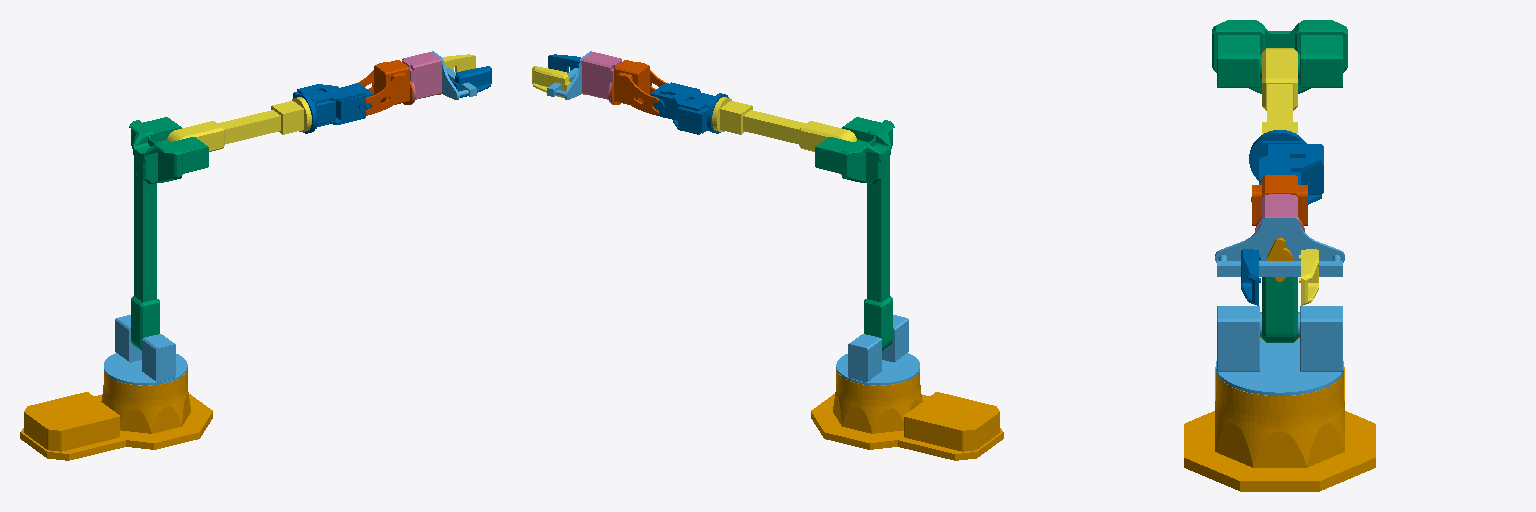
URDF robot description (wx250s):
<?xml version="1.0" encoding="UTF-8"?>
<!-- =================================================================================== -->
<!-- |    This document was autogenerated by xacro from [local-path]\Anaconda3\envs\urdf_analyzer\Lib\site-packages\rtbdata\xacro\interbotix_descriptions\urdf\wx250s.urdf.xacro | -->
<!-- |    EDITING THIS FILE BY HAND IS NOT RECOMMENDED                                 | -->
<!-- =================================================================================== -->
<robot name="wx250s">
  <link name="base_link">
    <visual>
      <origin rpy="0 0 1.5707963267948966" xyz="0 0 0"/>
      <geometry>
        <mesh filename="meshes_wx250s/WXSA-250-M-1-Base.obj" scale="0.001 0.001 0.001"/>
      </geometry>
    </visual>
    <collision>
      <origin rpy="0 0 1.5707963267948966" xyz="0 0 0"/>
      <geometry>
        <mesh filename="meshes_wx250s/WXSA-250-M-1-Base.stl" scale="0.001 0.001 0.001"/>
      </geometry>
    </collision>
    <inertial>
      <origin rpy="0 0 1.5707963267948966" xyz="-0.0380446000 0.0006138920 0.0193354000"/>
      <mass value="0.538736"/>
      <inertia ixx="0.0021150000" ixy="-0.0000163500" ixz="0.0000006998" iyy="0.0006921000" iyz="0.0000464200" izz="0.0025240000"/>
    </inertial>
  </link>
  <joint name="waist" type="revolute">
    <axis xyz="0 0 1"/>
    <limit effort="10" lower="-3.141592653589793" upper="3.141592653589793" velocity="3.141592653589793"/>
    <origin rpy="0 0 0" xyz="0 0 0.072"/>
    <parent link="base_link"/>
    <child link="shoulder_link"/>
  </joint>
  <!-- <transmission name="trans_waist">
    <type>transmission_interface/SimpleTransmission</type>
    <joint name="waist">
      <hardwareInterface>hardware_interface/EffortJointInterface</hardwareInterface>
    </joint>
    <actuator name="waist_motor">
      <mechanicalReduction>1</mechanicalReduction>
    </actuator>
  </transmission> -->
  <link name="shoulder_link">
    <visual>
      <origin rpy="0 0 1.5707963267948966" xyz="0 0 -0.003"/>
      <geometry>
        <mesh filename="meshes_wx250s/WXSA-250-M-2-Shoulder.obj" scale="0.001 0.001 0.001"/>
      </geometry>
    </visual>
    <collision>
      <origin rpy="0 0 1.5707963267948966" xyz="0 0 -0.003"/>
      <geometry>
        <mesh filename="meshes_wx250s/WXSA-250-M-2-Shoulder.stl" scale="0.001 0.001 0.001"/>
      </geometry>
    </collision>
    <inertial>
      <origin rpy="0 0 1.5707963267948966" xyz="0.0000223482 0.0000414609 0.0066287000"/>
      <mass value="0.480879"/>
      <inertia ixx="0.0003790000" ixy="0.0000000022" ixz="-0.0000003561" iyy="0.0005557000" iyz="0.0000012245" izz="0.0005889000"/>
    </inertial>
  </link>
  <joint name="shoulder" type="revolute">
    <axis xyz="0 1 0"/>
    <limit effort="20" lower="-1.8849555921538759" upper="1.9896753472735358" velocity="3.141592653589793"/>
    <origin rpy="0 0 0" xyz="0 0 0.03865"/>
    <parent link="shoulder_link"/>
    <child link="upper_arm_link"/>
  </joint>
  <!-- <transmission name="trans_shoulder">
    <type>transmission_interface/SimpleTransmission</type>
    <joint name="shoulder">
      <hardwareInterface>hardware_interface/EffortJointInterface</hardwareInterface>
    </joint>
    <actuator name="shoulder_motor">
      <mechanicalReduction>1</mechanicalReduction>
    </actuator>
  </transmission> -->
  <link name="upper_arm_link">
    <visual>
      <origin rpy="0 0 1.5707963267948966" xyz="0 0 0"/>
      <geometry>
        <mesh filename="meshes_wx250s/WXSA-250-M-3-UA.obj" scale="0.001 0.001 0.001"/>
      </geometry>
    </visual>
    <collision>
      <origin rpy="0 0 1.5707963267948966" xyz="0 0 0"/>
      <geometry>
        <mesh filename="meshes_wx250s/WXSA-250-M-3-UA.stl" scale="0.001 0.001 0.001"/>
      </geometry>
    </collision>
    <inertial>
      <origin rpy="0 0 1.5707963267948966" xyz="0.0171605000 0.0000002725 0.1913230000"/>
      <mass value="0.430811"/>
      <inertia ixx="0.0034630000" ixy="-0.0000000001" ixz="-0.0000000002" iyy="0.0035870000" iyz="0.0004272000" izz="0.0004566000"/>
    </inertial>
  </link>
  <joint name="elbow" type="revolute">
    <axis xyz="0 1 0"/>
    <limit effort="15" lower="-2.1467549799530254" upper="1.6057029118347832" velocity="3.141592653589793"/>
    <origin rpy="0 0 0" xyz="0.04975 0 0.25"/>
    <parent link="upper_arm_link"/>
    <child link="upper_forearm_link"/>
  </joint>
  <!-- <transmission name="trans_elbow">
    <type>transmission_interface/SimpleTransmission</type>
    <joint name="elbow">
      <hardwareInterface>hardware_interface/EffortJointInterface</hardwareInterface>
    </joint>
    <actuator name="elbow_motor">
      <mechanicalReduction>1</mechanicalReduction>
    </actuator>
  </transmission> -->
  <link name="upper_forearm_link">
    <visual>
      <origin rpy="0 0 0" xyz="0 0 0"/>
      <geometry>
        <mesh filename="meshes_wx250s/WXSA-250-M-4-UF.obj" scale="0.001 0.001 0.001"/>
      </geometry>
    </visual>
    <collision>
      <origin rpy="0 0 0" xyz="0 0 0"/>
      <geometry>
        <mesh filename="meshes_wx250s/WXSA-250-M-4-UF.stl" scale="0.001 0.001 0.001"/>
      </geometry>
    </collision>
    <inertial>
      <origin rpy="0 0 0" xyz="0.1079630000 0.0001158760 0"/>
      <mass value="0.234589"/>
      <inertia ixx="0.0000397100" ixy="0.0000023528" ixz="0" iyy="0.0008878000" iyz="0" izz="0.0008880000"/>
    </inertial>
  </link>
  <joint name="forearm_roll" type="revolute">
    <axis xyz="1 0 0"/>
    <limit effort="2" lower="-3.141582653589793" upper="3.141582653589793" velocity="3.141592653589793"/>
    <origin rpy="0 0 0" xyz="0.175 0 0"/>
    <parent link="upper_forearm_link"/>
    <child link="lower_forearm_link"/>
  </joint>
  <!-- <transmission name="trans_forearm_roll">
    <type>transmission_interface/SimpleTransmission</type>
    <joint name="forearm_roll">
      <hardwareInterface>hardware_interface/EffortJointInterface</hardwareInterface>
    </joint>
    <actuator name="forearm_roll_motor">
      <mechanicalReduction>1</mechanicalReduction>
    </actuator>
  </transmission> -->
  <link name="lower_forearm_link">
    <visual>
      <origin rpy="3.141592653589793 0 0" xyz="0 0 0"/>
      <geometry>
        <mesh filename="meshes_wx250s/WXSA-250-M-5-LF.obj" scale="0.001 0.001 0.001"/>
      </geometry>
    </visual>
    <collision>
      <origin rpy="3.141592653589793 0 0" xyz="0 0 0"/>
      <geometry>
        <mesh filename="meshes_wx250s/WXSA-250-M-5-LF.stl" scale="0.001 0.001 0.001"/>
      </geometry>
    </collision>
    <inertial>
      <origin rpy="3.141592653589793 0 0" xyz="0.0374395000 0.0052225200 0"/>
      <mass value="0.220991"/>
      <inertia ixx="0.0000636900" ixy="-0.0000229200" ixz="0" iyy="0.0001677000" iyz="0" izz="0.0001834000"/>
    </inertial>
  </link>
  <joint name="wrist_angle" type="revolute">
    <axis xyz="0 1 0"/>
    <limit effort="5" lower="-1.7453292519943295" upper="2.1467549799530254" velocity="3.141592653589793"/>
    <origin rpy="0 0 0" xyz="0.075 0 0"/>
    <parent link="lower_forearm_link"/>
    <child link="wrist_link"/>
  </joint>
  <!-- <transmission name="trans_wrist_angle">
    <type>transmission_interface/SimpleTransmission</type>
    <joint name="wrist_angle">
      <hardwareInterface>hardware_interface/EffortJointInterface</hardwareInterface>
    </joint>
    <actuator name="wrist_angle_motor">
      <mechanicalReduction>1</mechanicalReduction>
    </actuator>
  </transmission> -->
  <link name="wrist_link">
    <visual>
      <origin rpy="0 0 1.5707963267948966" xyz="0 0 0"/>
      <geometry>
        <mesh filename="meshes_wx250s/WXSA-250-M-6-Wrist.obj" scale="0.001 0.001 0.001"/>
      </geometry>
    </visual>
    <collision>
      <origin rpy="0 0 1.5707963267948966" xyz="0 0 0"/>
      <geometry>
        <mesh filename="meshes_wx250s/WXSA-250-M-6-Wrist.stl" scale="0.001 0.001 0.001"/>
      </geometry>
    </collision>
    <inertial>
      <origin rpy="0 0 1.5707963267948966" xyz="0.0423600000 -0.0000106630 0.0105770000"/>
      <mass value="0.084957"/>
      <inertia ixx="0.0000308200" ixy="0.0000000191" ixz="0.0000000023" iyy="0.0000282200" iyz="0.0000025481" izz="0.0000315200"/>
    </inertial>
  </link>
  <joint name="wrist_rotate" type="revolute">
    <axis xyz="1 0 0"/>
    <limit effort="1" lower="-3.141582653589793" upper="3.141582653589793" velocity="3.141592653589793"/>
    <origin rpy="0 0 0" xyz="0.065 0 0"/>
    <parent link="wrist_link"/>
    <child link="gripper_link"/>
  </joint>
  <!-- <transmission name="trans_wrist_rotate">
    <type>transmission_interface/SimpleTransmission</type>
    <joint name="wrist_rotate">
      <hardwareInterface>hardware_interface/EffortJointInterface</hardwareInterface>
    </joint>
    <actuator name="wrist_rotate_motor">
      <mechanicalReduction>1</mechanicalReduction>
    </actuator>
  </transmission> -->
  <link name="gripper_link">
    <visual>
      <origin rpy="0 0 1.5707963267948966" xyz="-0.02 0 0"/>
      <geometry>
        <mesh filename="meshes_wx250s/WXSA-250-M-7-Gripper.obj" scale="0.001 0.001 0.001"/>
      </geometry>
    </visual>
    <collision>
      <origin rpy="0 0 1.5707963267948966" xyz="-0.02 0 0"/>
      <geometry>
        <mesh filename="meshes_wx250s/WXSA-250-M-7-Gripper.stl" scale="0.001 0.001 0.001"/>
      </geometry>
    </collision>
    <inertial>
      <origin rpy="0 0 1.5707963267948966" xyz="0.0216310000 0.0000002516 0.0114100000"/>
      <mass value="0.072885"/>
      <inertia ixx="0.0000253700" ixy="0.0000000000" ixz="0.0000000000" iyy="0.0000183600" iyz="0.0000004340" izz="0.0000167400"/>
    </inertial>
  </link>
  <joint name="ee_arm" type="fixed">
    <axis xyz="1 0 0"/>
    <origin rpy="0 0 0" xyz="0.043 0 0"/>
    <parent link="gripper_link"/>
    <child link="ee_arm_link"/>
  </joint>
  <link name="ee_arm_link">
    <inertial>
      <mass value="0.001"/>
      <inertia ixx="0.001" ixy="0" ixz="0" iyy="0.001" iyz="0" izz="0.001"/>
    </inertial>
  </link>
  <joint name="gripper" type="fixed">
    <axis xyz="1 0 0"/>
    <!-- <limit effort="1" velocity="3.141592653589793"/> -->
    <origin rpy="0 0 0" xyz="0.0055 0 0"/>
    <parent link="ee_arm_link"/>
    <child link="gripper_prop_link"/>
  </joint>
  <link name="gripper_prop_link">
    <visual>
      <origin rpy="0 0 1.5707963267948966" xyz="-0.0685 0 0"/>
      <geometry>
        <mesh filename="meshes_wx250s/WXSA-250-M-8-Gripper-Prop.obj" scale="0.001 0.001 0.001"/>
      </geometry>
    </visual>
    <!-- stao: No need to model this collision, it is inside gripper_link -->
    <!-- <collision>
      <origin rpy="0 0 1.5707963267948966" xyz="-0.0685 0 0"/>
      <geometry>
        <mesh filename="meshes_wx250s/WXSA-250-M-8-Gripper-Prop.stl" scale="0.001 0.001 0.001"/>
      </geometry>
    </collision> -->
    <inertial>
      <origin rpy="0 0 1.5707963267948966" xyz="0.0008460000 -0.0000016817 0.0000420000"/>
      <mass value="0.00434"/>
      <inertia ixx="0.0000005923" ixy="0.0000000000" ixz="0.0000003195" iyy="0.0000011156" iyz="-0.0000000004" izz="0.0000005743"/>
    </inertial>
  </link>
  <!-- If the default gripper bar is being used, then also add the gripper bar -->
  <joint name="gripper_bar" type="fixed">
    <axis xyz="1 0 0"/>
    <origin rpy="0 0 0" xyz="0 0 0"/>
    <parent link="ee_arm_link"/>
    <child link="gripper_bar_link"/>
  </joint>
  <link name="gripper_bar_link">
    <visual>
      <origin rpy="0 0 1.5707963267948966" xyz="-0.063 0 0"/>
      <geometry>
        <mesh filename="meshes_wx250s/WXSA-250-M-9-Gripper-Bar.obj" scale="0.001 0.001 0.001"/>
      </geometry>
    </visual>
    <collision>
      <origin rpy="0 0 1.5707963267948966" xyz="-0.063 0 0"/>
      <geometry>
        <mesh filename="meshes_wx250s/WXSA-250-M-9-Gripper-Bar.stl" scale="0.001 0.001 0.001"/>
      </geometry>
    </collision>
    <inertial>
      <origin rpy="0 0 1.5707963267948966" xyz="0.0096870000 0.0000008177 0.0049620000"/>
      <mass value="0.034199"/>
      <inertia ixx="0.0000074125" ixy="-0.0000000008" ixz="-0.0000000006" iyy="0.0000284300" iyz="-0.0000013889" izz="0.0000286000"/>
    </inertial>
  </link>
  <joint name="ee_bar" type="fixed">
    <axis xyz="1 0 0"/>
    <origin rpy="0 0 0" xyz="0.023 0 0"/>
    <parent link="gripper_bar_link"/>
    <child link="fingers_link"/>
  </joint>
  <link name="fingers_link">
    <inertial>
      <mass value="0.001"/>
      <inertia ixx="0.001" ixy="0" ixz="0" iyy="0.001" iyz="0" izz="0.001"/>
    </inertial>
  </link>
  <!-- If the default gripper fingers are being used, add those as well -->
  <joint name="left_finger" type="prismatic">
    <axis xyz="0 1 0"/>
    <limit effort="5" lower="0.015" upper="0.037" velocity="1"/>
    <origin rpy="0 0 0" xyz="0 0 0"/>
    <parent link="fingers_link"/>
    <child link="left_finger_link"/>
  </joint>
  <!-- <transmission name="trans_left_finger">
    <type>transmission_interface/SimpleTransmission</type>
    <joint name="left_finger">
      <hardwareInterface>hardware_interface/EffortJointInterface</hardwareInterface>
    </joint>
    <actuator name="left_finger_motor">
      <mechanicalReduction>1</mechanicalReduction>
    </actuator>
  </transmission> -->
  <link name="left_finger_link">
    <visual>
      <origin rpy="3.141592653589793 3.141592653589793 0" xyz="0 0.005 0"/>
      <geometry>
        <mesh filename="meshes_wx250s/WXSA-250-M-10-Finger.obj" scale="0.001 0.001 0.001"/>
      </geometry>
    </visual>
    <collision>
      <origin rpy="3.141592653589793 3.141592653589793 0" xyz="0 0.005 0"/>
      <geometry>
        <mesh filename="meshes_wx250s/WXSA-250-M-10-Finger.stl" scale="0.001 0.001 0.001"/>
      </geometry>
    </collision>
    <inertial>
      <origin rpy="3.141592653589793 3.141592653589793 1.5707963267948966" xyz="0.0138160000 0.0000000000 0.0000000000"/>
      <mass value="0.016246"/>
      <inertia ixx="0.0000047310" ixy="-0.0000004560" ixz="0.0000000000" iyy="0.0000015506" iyz="0.0000000000" izz="0.0000037467"/>
    </inertial>
  </link>
  <joint name="right_finger" type="prismatic">
    <axis xyz="0 -1 0"/>
    <limit effort="5" lower="0.015" upper="0.037" velocity="1"/>
    <origin rpy="0 0 0" xyz="0 0 0"/>
    <parent link="fingers_link"/>
    <child link="right_finger_link"/>
    <!-- <mimic joint="left_finger" multiplier="1" offset="0"/> -->
  </joint>
  <!-- <transmission name="trans_right_finger">
    <type>transmission_interface/SimpleTransmission</type>
    <joint name="right_finger">
      <hardwareInterface>hardware_interface/EffortJointInterface</hardwareInterface>
    </joint>
    <actuator name="right_finger_motor">
      <mechanicalReduction>1</mechanicalReduction>
    </actuator>
  </transmission> -->
  <link name="right_finger_link">
    <visual>
      <origin rpy="0 3.141592653589793 0" xyz="0 -0.005 0"/>
      <geometry>
        <mesh filename="meshes_wx250s/WXSA-250-M-10-Finger.obj" scale="0.001 0.001 0.001"/>
      </geometry>
    </visual>
    <collision>
      <origin rpy="0 3.141592653589793 0" xyz="0 -0.005 0"/>
      <geometry>
        <mesh filename="meshes_wx250s/WXSA-250-M-10-Finger.stl" scale="0.001 0.001 0.001"/>
      </geometry>
    </collision>
    <inertial>
      <origin rpy="0 3.141592653589793 1.5707963267948966" xyz="0.0138160000 0.0000000000  0.0000000000"/>
      <mass value="0.016246"/>
      <inertia ixx="0.0000047310" ixy="0.0000004560" ixz="0.0000000000" iyy="0.0000015506" iyz="0.0000000000" izz="0.0000037467"/>
    </inertial>
  </link>
  <joint name="ee_gripper" type="fixed">
    <axis xyz="1 0 0"/>
    <origin rpy="0 0 0" xyz="0.027575 0 0"/>
    <parent link="fingers_link"/>
    <child link="ee_gripper_link"/>
  </joint>
  <link name="ee_gripper_link">
    <inertial>
      <mass value="0.001"/>
      <inertia ixx="0.001" ixy="0" ixz="0" iyy="0.001" iyz="0" izz="0.001"/>
    </inertial>
  </link>
</robot>

--- What the picture shows (computed from the rendered views, not written in the file) ---
3 views of the same robot in one strip: view 1: azimuth 30°, elevation 25°; view 2: azimuth 150°, elevation 25°; view 3: azimuth 270°, elevation 25° (orthographic).
Model wx250s with 14 links and 13 joints (6 revolute, 2 prismatic, 5 fixed), rooted at base_link, posed joints at zero except 2 at the middle of their limits (left_finger = 0.026, right_finger = 0.026).
Links seen in each view (by area): view 1: base_link, upper_arm_link, shoulder_link, upper_forearm_link, lower_forearm_link, wrist_link, gripper_link, right_finger_link, gripper_bar_link; view 2: base_link, upper_arm_link, shoulder_link, upper_forearm_link, lower_forearm_link, wrist_link, gripper_link, left_finger_link, gripper_bar_link; view 3: base_link, upper_arm_link, shoulder_link, gripper_bar_link, lower_forearm_link, upper_forearm_link, wrist_link, left_finger_link, right_finger_link, gripper_link.
Boxes of the visible links, x1,y1,x2,y2 form: base_link: (20, 369, 212, 460); upper_arm_link: (129, 117, 208, 350); shoulder_link: (104, 315, 187, 385); upper_forearm_link: (167, 97, 311, 151); lower_forearm_link: (293, 83, 373, 133); wrist_link: (355, 60, 413, 115); gripper_link: (402, 52, 441, 104); right_finger_link: (453, 66, 491, 97); gripper_bar_link: (432, 51, 476, 99); base_link: (811, 369, 1003, 460); upper_arm_link: (815, 117, 894, 350); shoulder_link: (836, 315, 919, 385); upper_forearm_link: (712, 97, 856, 151); lower_forearm_link: (650, 82, 728, 134); wrist_link: (610, 60, 668, 115); gripper_link: (582, 52, 621, 104); left_finger_link: (532, 66, 570, 97); gripper_bar_link: (547, 51, 591, 99); base_link: (1184, 338, 1375, 491); upper_arm_link: (1212, 20, 1347, 342); shoulder_link: (1216, 306, 1343, 395); gripper_bar_link: (1215, 217, 1344, 276); lower_forearm_link: (1249, 130, 1323, 204); upper_forearm_link: (1262, 48, 1297, 134); wrist_link: (1252, 175, 1307, 228); left_finger_link: (1299, 249, 1318, 305); right_finger_link: (1241, 249, 1260, 305); gripper_link: (1255, 194, 1304, 231).
Size in the robot's own frame: 0.6309 by 0.1531 by 0.3959 metres.
11 mesh visuals loaded from 10 distinct referenced files (10 OBJ).